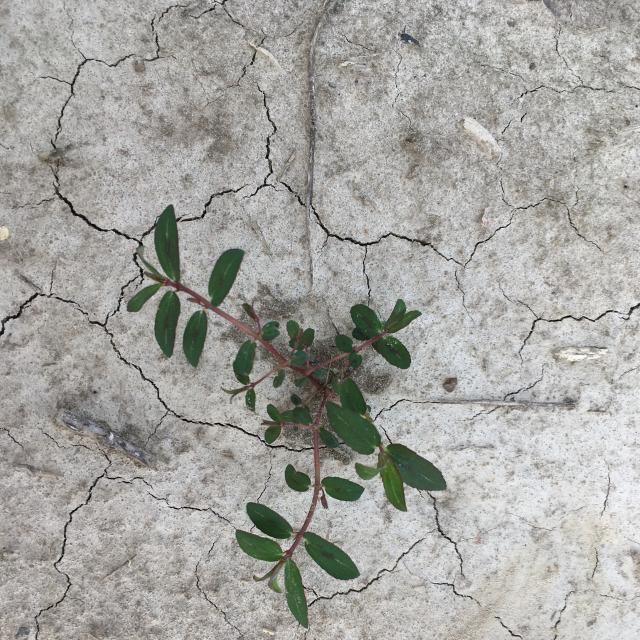SpottedSpurge: (127, 204, 447, 628)
